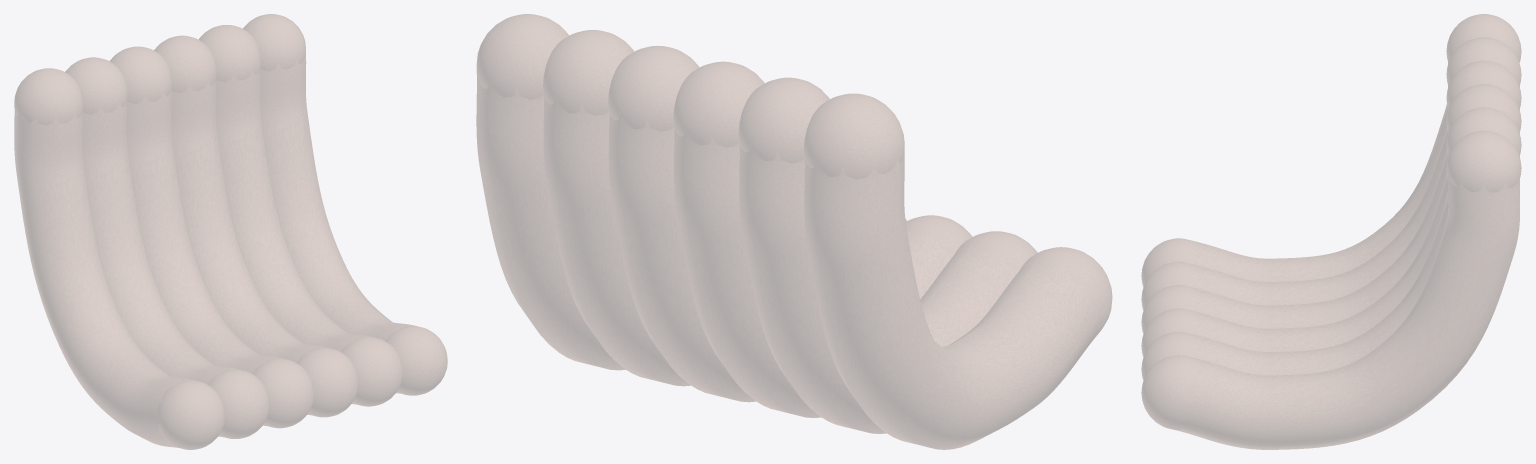
Rendered from ref07_10.glb.
3 views of the same model, side by side, from view 1: azimuth 30°, elevation 25°; view 2: azimuth 150°, elevation 25°; view 3: azimuth 270°, elevation 25° (orthographic). The views are drawn at different scales.
Visible parts, largest first — view 1: ref07_10; view 2: ref07_10; view 3: ref07_10.
Boxes of the visible parts, x1=… form: ref07_10: x1=14, y1=14, x2=447, y2=449; ref07_10: x1=476, y1=14, x2=1112, y2=449; ref07_10: x1=1141, y1=14, x2=1521, y2=449.
Size of the model in its own units: 0.795 by 0.7758 by 0.86.
1 material, 1 textured.
